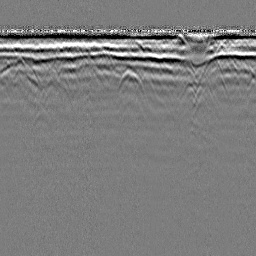cavity: (116, 66, 145, 93)
